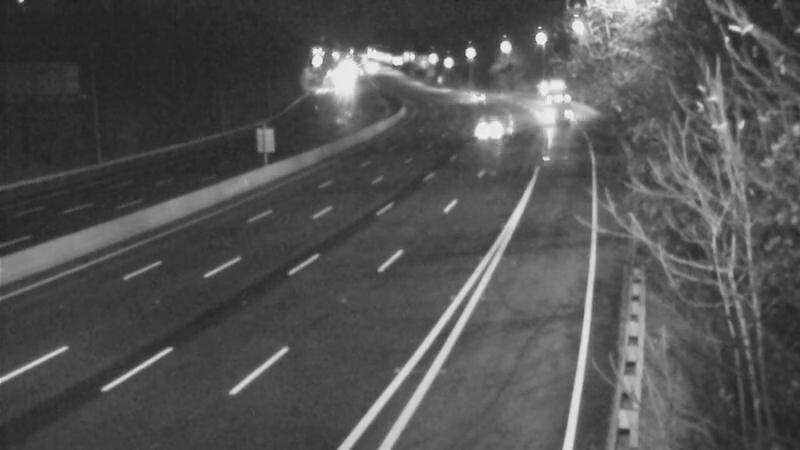vehicle: (445, 73, 495, 123), (523, 75, 573, 125), (465, 104, 515, 154)
